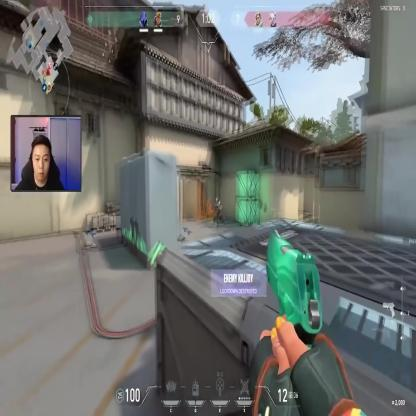enemy: (214, 198, 224, 226)
enemy_head: (215, 197, 218, 202)
